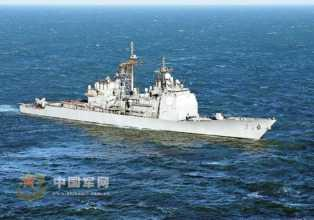warship: (11, 41, 280, 143)
